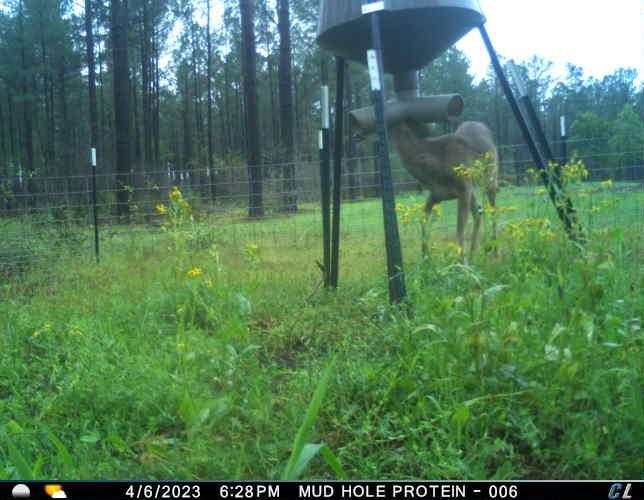Deer: (351, 116, 504, 268)
